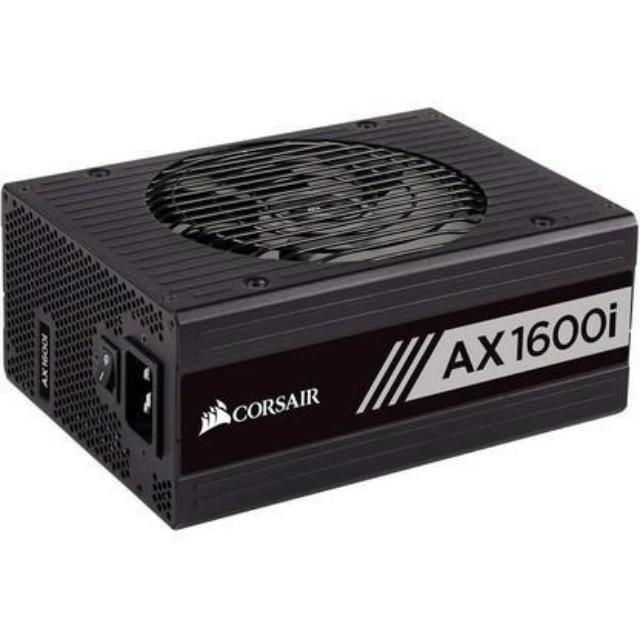PSU: (0, 96, 640, 541)
